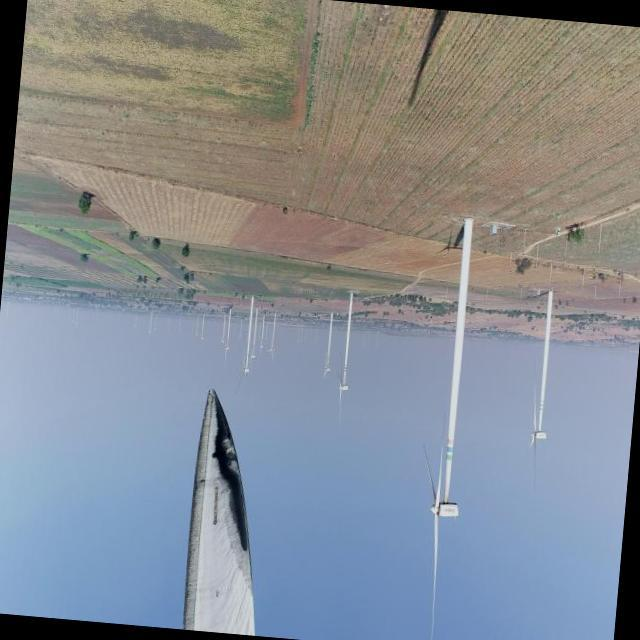Dirt: (185, 396, 260, 640)
Oil LEAKAGE: (209, 384, 250, 556)
Pin Hole: (208, 446, 220, 462), (197, 473, 207, 490), (214, 588, 226, 600)
